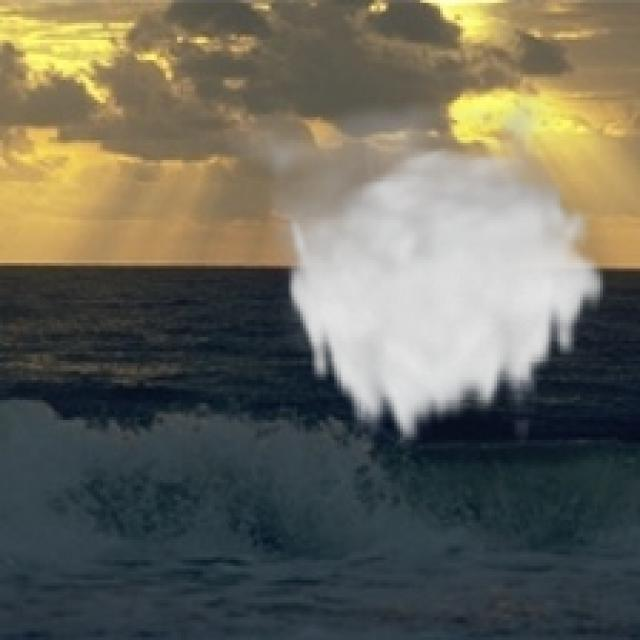Smoke: (217, 74, 609, 452)
